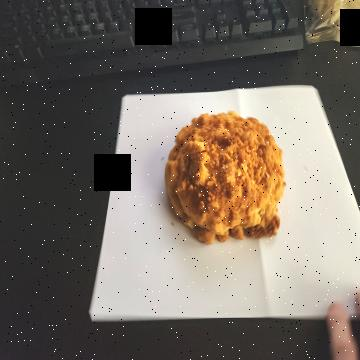soboru_bread: (166, 110, 287, 246)
